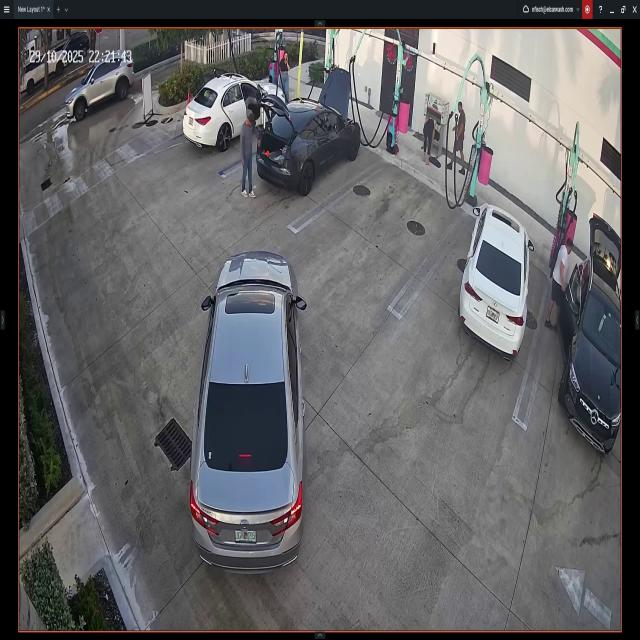Car: (189, 254, 306, 570), (560, 214, 621, 456), (258, 66, 360, 194), (460, 201, 532, 365), (184, 74, 286, 150), (65, 55, 134, 119)
